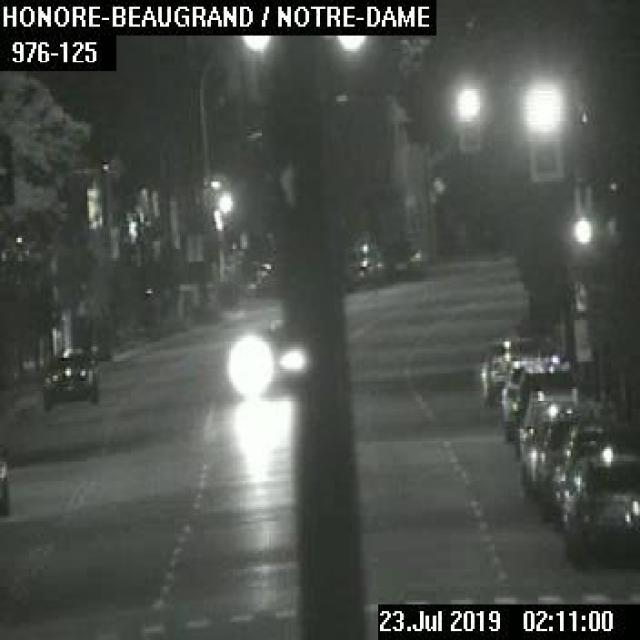vehicle: (550, 422, 638, 514), (561, 460, 638, 560), (522, 406, 607, 489), (507, 365, 577, 438), (479, 336, 550, 405), (498, 357, 568, 411), (40, 349, 100, 404), (340, 231, 386, 284), (383, 239, 426, 279), (0, 438, 11, 516)
